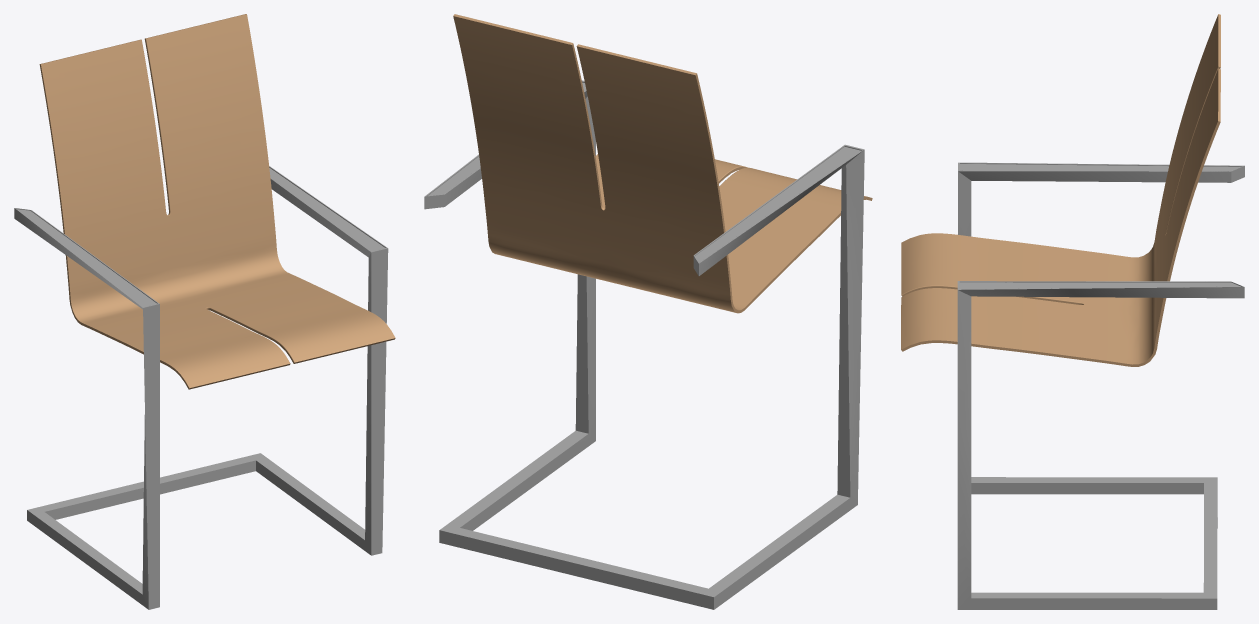
The model's file is chair.glb.
3 renders of one model, left to right at view 1: azimuth 30°, elevation 25°; view 2: azimuth 150°, elevation 25°; view 3: azimuth 270°, elevation 25°, orthographic. The views are drawn at different scales.
Visible parts, largest first — view 1: Chair_1; view 2: Chair_1; view 3: Chair_1.
Boxes of the visible parts, left/top/right/bottom form: Chair_1: left=14, top=14, right=395, bottom=609; Chair_1: left=424, top=14, right=872, bottom=609; Chair_1: left=901, top=14, right=1244, bottom=609.
Bounding box in the file's own units: 0.445 × 0.7854 × 0.5078.
